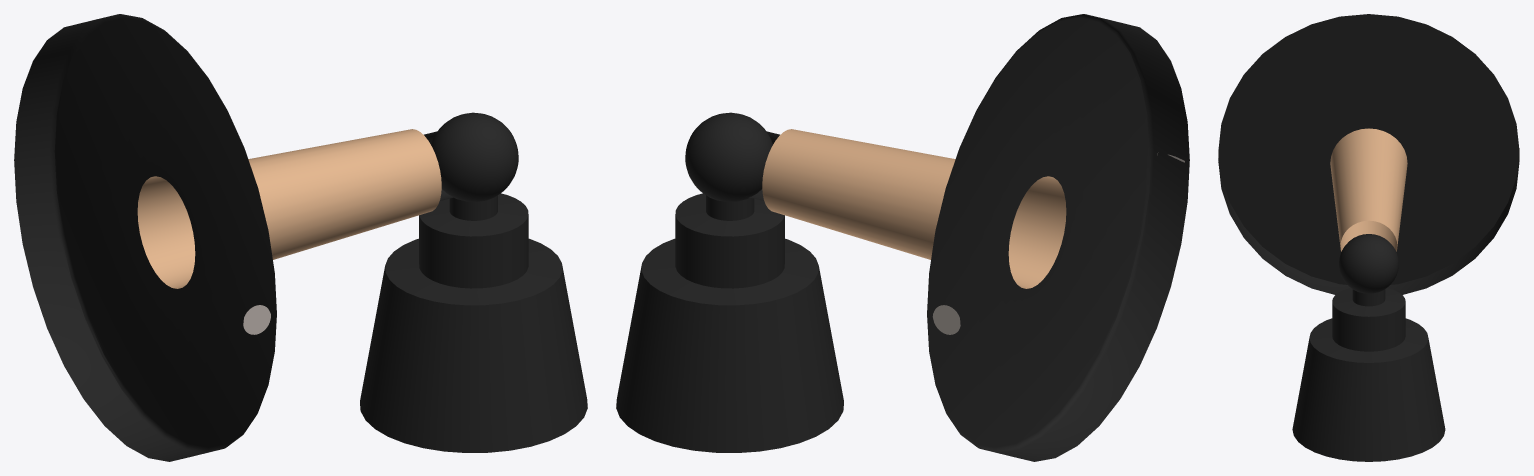
File: lampara_pared.fbx
The picture shows the model from 3 angles, left to right: view 1: azimuth 30°, elevation 25°; view 2: azimuth 150°, elevation 25°; view 3: azimuth 270°, elevation 25°; orthographic projection. The views are drawn at different scales.
Parts seen in each view (by area): view 1: Pie_lampara; view 2: Pie_lampara; view 3: Pie_lampara.
Boxes of the visible parts, x1,y1,x2,y2 form: Pie_lampara: (14, 14, 587, 461); Pie_lampara: (616, 14, 1189, 461); Pie_lampara: (1218, 14, 1519, 461).
Size of the model in its own units: 229 by 242 by 200.
